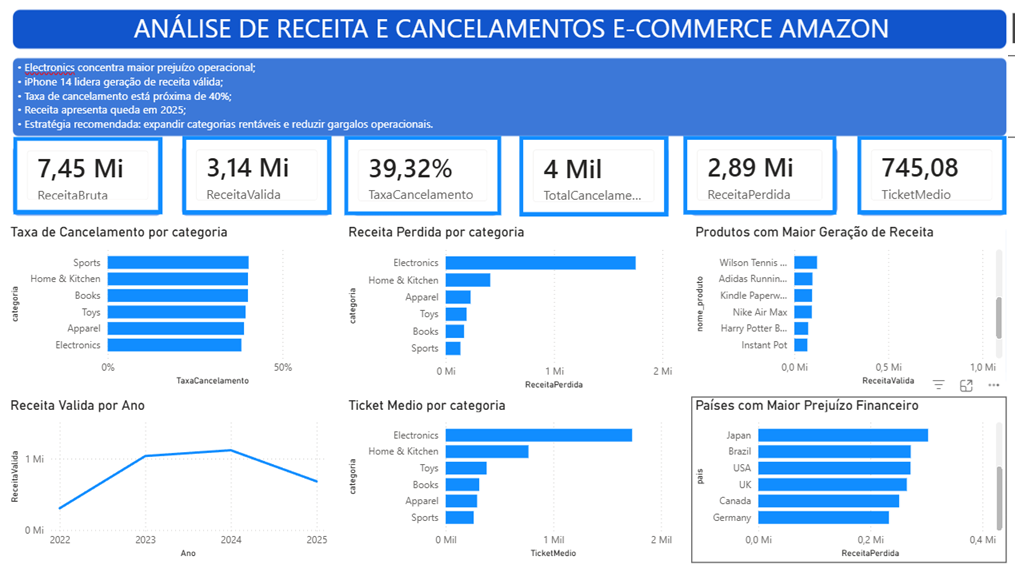

Layout of this report page (visuals, bound fields, positions):
{"tool":"powerbi","page":{"name":"Página 1","canvas":[1280,720],"ordinal":0},"visuals":[{"type":"cardVisual","fields":{"Data":["f_ecommerce_amazon.ReceitaBruta"]},"box":[18.4,173,186.5,96.9],"z":0},{"type":"cardVisual","fields":{"Data":["f_ecommerce_amazon.ReceitaValida"]},"box":[229.4,171.8,186.5,98.2],"z":1000},{"type":"cardVisual","fields":{"Data":["f_ecommerce_amazon.ReceitaPerdida"]},"box":[856.4,171.8,191.4,98.2],"z":2000},{"type":"cardVisual","fields":{"Data":["f_ecommerce_amazon.TaxaCancelamento"]},"box":[431.9,171.8,196.3,99.4],"z":3000},{"type":"cardVisual","fields":{"Data":["f_ecommerce_amazon.TicketMedio"]},"box":[1073.6,171.8,186.5,98.2],"z":4000},{"type":"cardVisual","fields":{"Data":["f_ecommerce_amazon.TotalCancelamentos"]},"box":[651.5,171.8,186.5,100.6],"z":5000},{"type":"clusteredBarChart","title":"Taxa de Cancelamento por categoria","fields":{"Category":["f_ecommerce_amazon.categoria"],"Y":["f_ecommerce_amazon.TaxaCancelamento"]},"box":[9.8,281,406.1,207.4],"z":6000},{"type":"barChart","title":"Receita Perdida por categoria","fields":{"Category":["f_ecommerce_amazon.categoria"],"Y":["f_ecommerce_amazon.ReceitaPerdida"]},"box":[431.9,281,414.7,212.3],"z":7000},{"type":"clusteredBarChart","title":"Produtos com Maior Geração de Receita","fields":{"Category":["f_ecommerce_amazon.nome_produto"],"Y":["f_ecommerce_amazon.ReceitaValida"]},"box":[866.3,281,393.9,207.4],"z":8000},{"type":"textbox","box":[18.8,11.2,1261.2,50],"z":9000},{"type":"lineChart","title":"Receita Valida por Ano","fields":{"Category":["f_ecommerce_amazon.data_compra.Variation.Hierarquia de datas.Ano","f_ecommerce_amazon.data_compra.Variation.Hierarquia de datas.Trimestre","f_ecommerce_amazon.data_compra.Variation.Hierarquia de datas.Mês","f_ecommerce_amazon.data_compra.Variation.Hierarquia de datas.Dia"],"Y":["f_ecommerce_amazon.ReceitaValida"]},"box":[10,498,406,207],"z":10000},{"type":"clusteredBarChart","title":"Ticket Medio por categoria","fields":{"Category":["f_ecommerce_amazon.categoria"],"Y":["f_ecommerce_amazon.TicketMedio"]},"box":[432,498,415,207],"z":11000},{"type":"clusteredBarChart","title":"Países com Maior Prejuízo Financeiro","fields":{"Category":["f_ecommerce_amazon.pais"],"Y":["f_ecommerce_amazon.ReceitaPerdida"]},"box":[866,498,394,207],"z":12000},{"type":"textbox","box":[18.3,71.7,1261.7,101.7],"z":13000}]}

Visuals, with their boxes in screenshot pixels (x1, y1, x2, y2), scaled from the page's 1280x720 canvas onto the 1015x568 screenshot:
cardVisual - f_ecommerce_amazon.ReceitaBruta: Rect(15, 136, 162, 213)
cardVisual - f_ecommerce_amazon.ReceitaValida: Rect(182, 136, 330, 213)
cardVisual - f_ecommerce_amazon.ReceitaPerdida: Rect(679, 136, 831, 213)
cardVisual - f_ecommerce_amazon.TaxaCancelamento: Rect(342, 136, 498, 214)
cardVisual - f_ecommerce_amazon.TicketMedio: Rect(851, 136, 999, 213)
cardVisual - f_ecommerce_amazon.TotalCancelamentos: Rect(517, 136, 665, 215)
"Taxa de Cancelamento por categoria" clusteredBarChart: Rect(8, 222, 330, 385)
"Receita Perdida por categoria" barChart: Rect(342, 222, 671, 389)
"Produtos com Maior Geração de Receita" clusteredBarChart: Rect(687, 222, 999, 385)
textbox: Rect(15, 9, 1014, 48)
"Receita Valida por Ano" lineChart: Rect(8, 393, 330, 556)
"Ticket Medio por categoria" clusteredBarChart: Rect(343, 393, 672, 556)
"Países com Maior Prejuízo Financeiro" clusteredBarChart: Rect(687, 393, 999, 556)
textbox: Rect(15, 57, 1014, 137)
